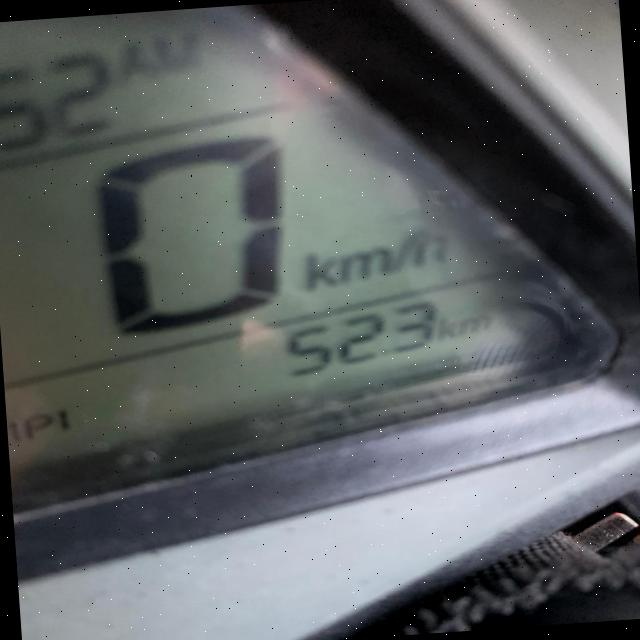odometer: (0, 0, 637, 523)
